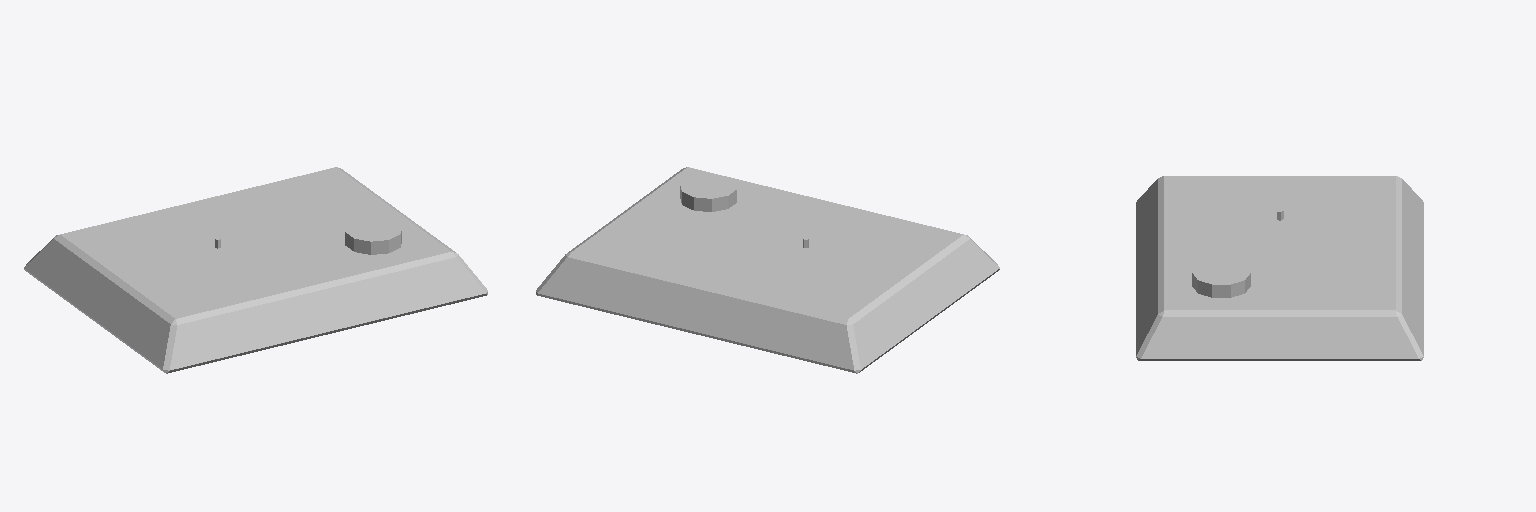
File: TurntableBase.obj
The picture shows the model from 3 angles: view 1: azimuth 30°, elevation 25°; view 2: azimuth 150°, elevation 25°; view 3: azimuth 270°, elevation 25°; orthographic projection.
Visible parts, largest first — view 1: Cube, Cylinder.002; view 2: Cube, Cylinder.002; view 3: Cube, Cylinder.002.
Part boxes in pixels (x1,y1,x2,y2): Cube: (24,167,487,373); Cylinder.002: (345,217,401,254); Cube: (536,167,999,373); Cylinder.002: (680,174,736,211); Cube: (1136,176,1423,360); Cylinder.002: (1192,261,1250,297).
Size of the model in its own units: 19.58 by 3.08 by 15.01.